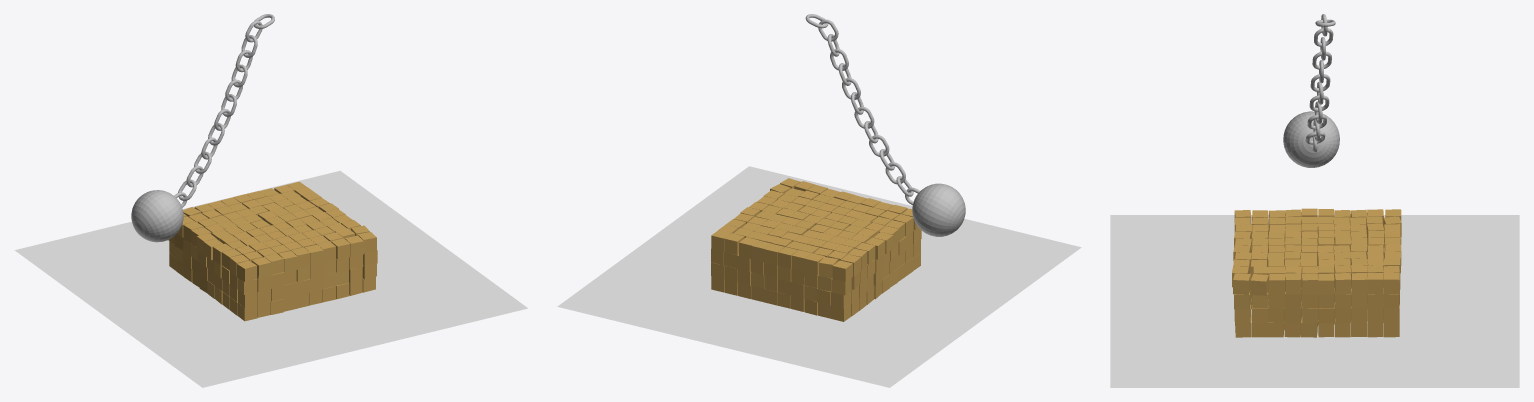
The model's file is WreckBall without Texture_EXPORT.fbx.
The picture shows the model from 3 angles, left to right: view 1: azimuth 30°, elevation 25°; view 2: azimuth 150°, elevation 25°; view 3: azimuth 270°, elevation 25°; orthographic projection. The views are drawn at different scales.
Visible parts, largest first — view 1: Plane, Torus; view 2: Plane, Torus; view 3: Plane, Torus, Cube.367, Cube.363, Cube.387, Cube.375, Cube.379, Cube.371, Cube.391, Cube.383.
Part boxes in pixels (<box>): Plane: <box>14,170,527,387</box>; Torus: <box>131,190,186,242</box>; Plane: <box>557,166,1081,387</box>; Torus: <box>905,183,965,236</box>; Plane: <box>1110,215,1519,387</box>; Torus: <box>1283,111,1339,167</box>; Cube.367: <box>1250,274,1268,295</box>; Cube.363: <box>1233,273,1250,294</box>; Cube.387: <box>1334,273,1351,294</box>; Cube.375: <box>1285,273,1301,294</box>; Cube.379: <box>1301,273,1318,294</box>; Cube.371: <box>1269,273,1285,294</box>; Cube.391: <box>1351,273,1367,294</box>; Cube.383: <box>1318,273,1334,294</box>.
Size of the model in its own units: 51.57 by 39.16 by 51.57.
